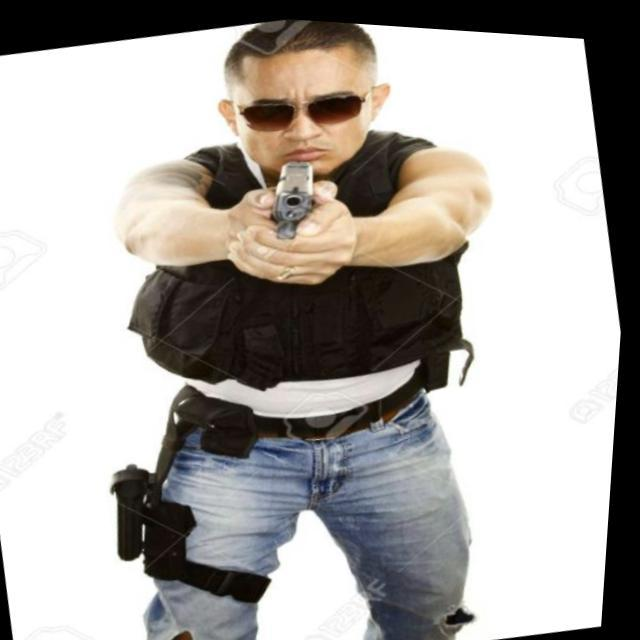weapon: (262, 151, 329, 240)
